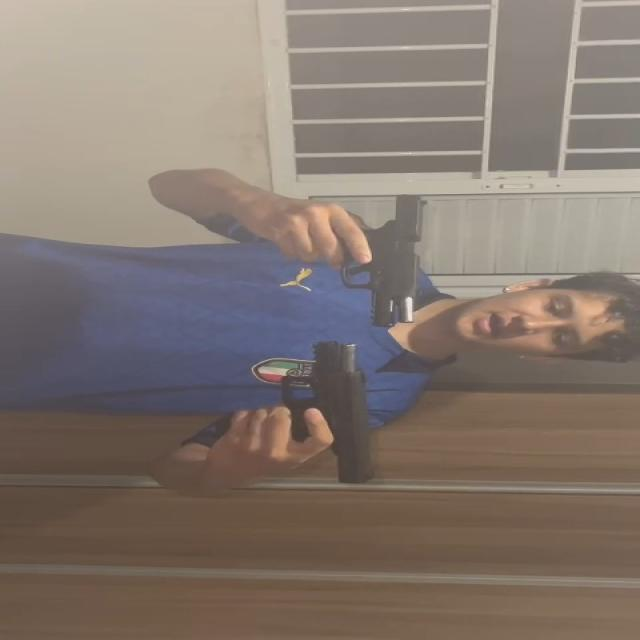guns: (277, 338, 378, 484), (333, 196, 430, 326)
